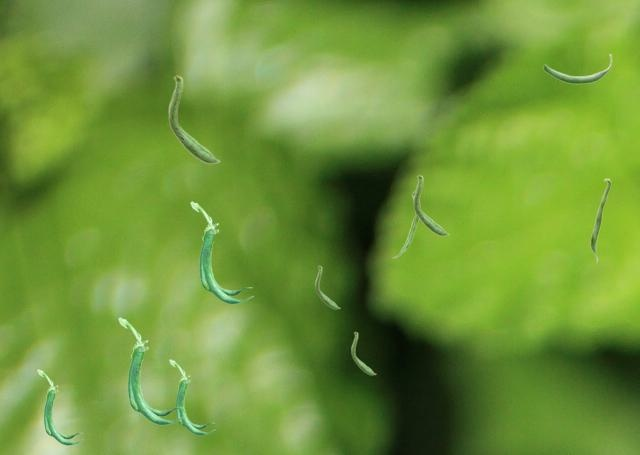french_bean: (118, 317, 183, 424), (190, 201, 252, 303), (168, 74, 219, 163), (169, 359, 214, 434), (37, 369, 82, 444), (413, 174, 448, 235), (543, 54, 611, 83), (392, 191, 419, 257), (590, 178, 610, 262), (315, 265, 339, 308), (351, 331, 375, 374)
